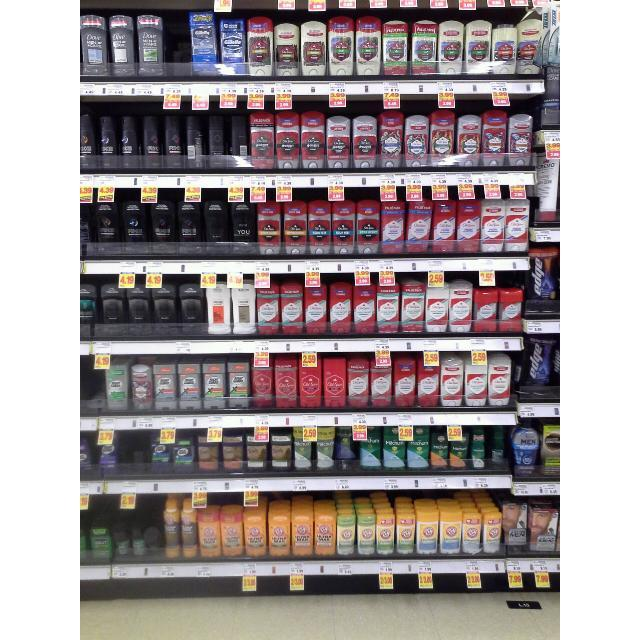empty: (163, 11, 191, 81), (118, 430, 152, 480), (80, 370, 106, 416)
